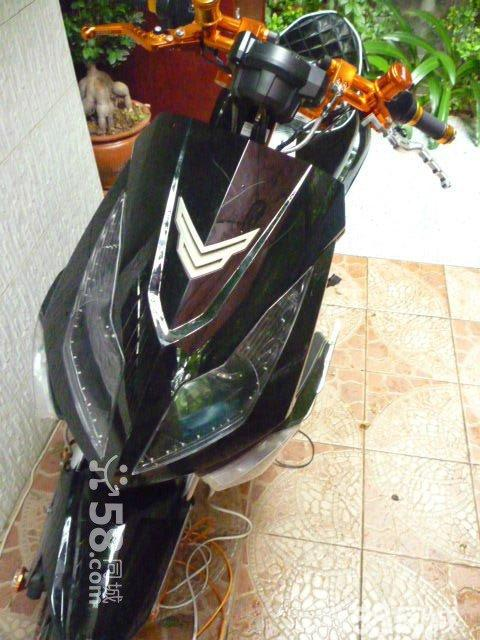电动车: (12, 1, 464, 638)
